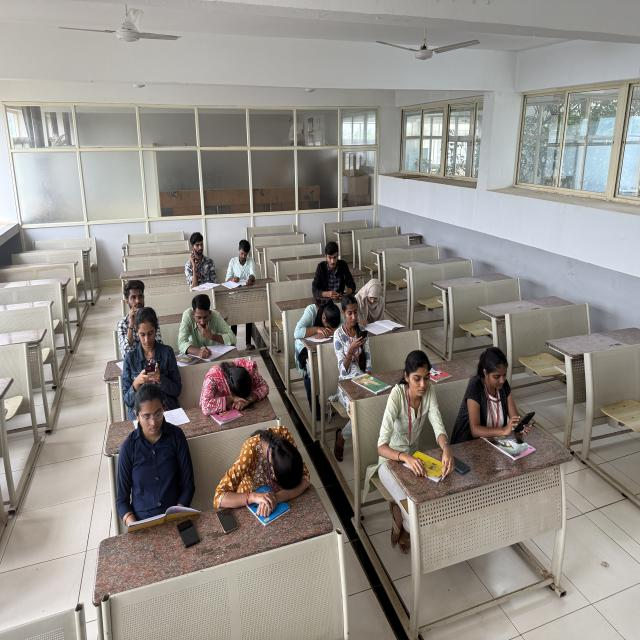Reading: (116, 382, 198, 538), (378, 344, 455, 486)
Sleeping: (207, 421, 314, 520), (198, 354, 273, 426), (292, 294, 345, 358)
Using Phone: (459, 343, 539, 459), (117, 307, 182, 413), (331, 290, 381, 395), (313, 241, 358, 303), (182, 227, 220, 289)
Writing: (179, 293, 237, 361), (355, 275, 401, 334), (224, 234, 264, 294)
